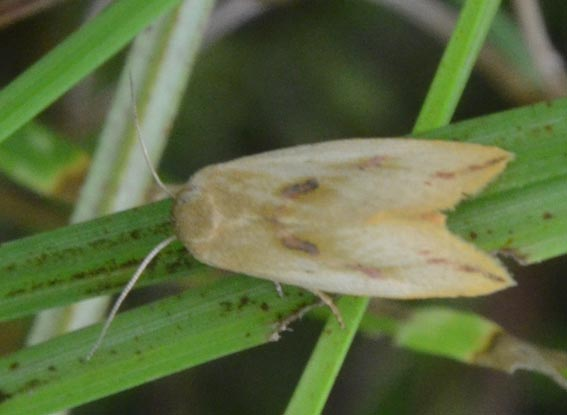Noctuidae: (88, 75, 514, 362)
